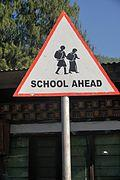School Ahead: (15, 4, 118, 104)
